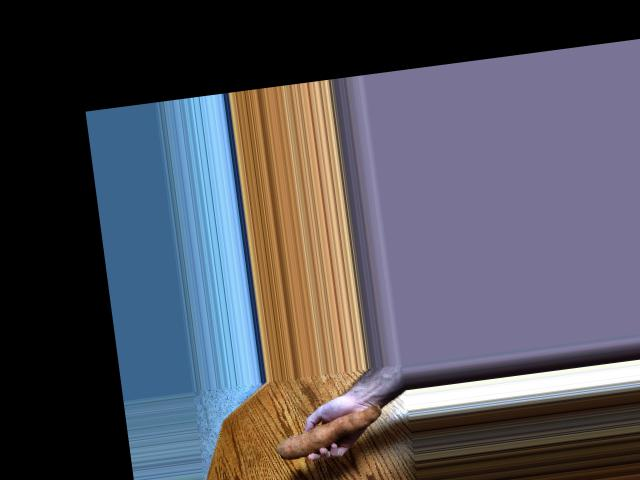sweet_potato: (278, 409, 380, 463)
